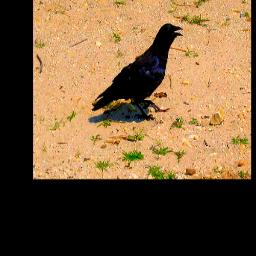Crow: (92, 23, 183, 121)
